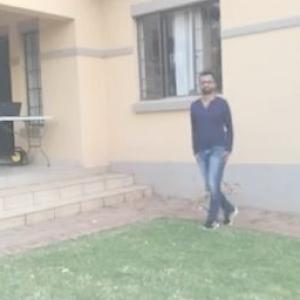follow: (189, 68, 242, 228)
